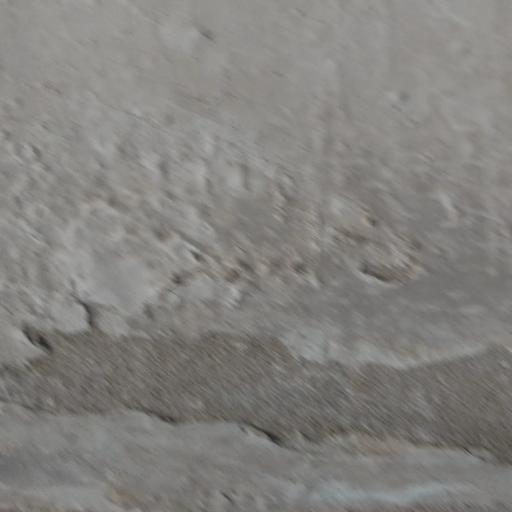peeling: (0, 282, 512, 487)
